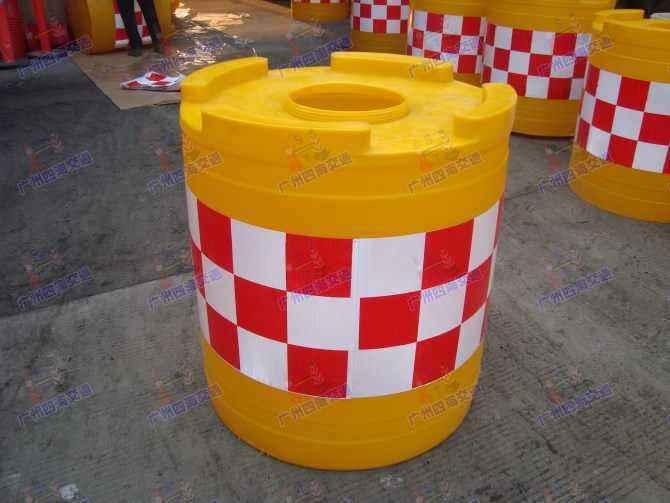sign: (167, 39, 509, 471)
